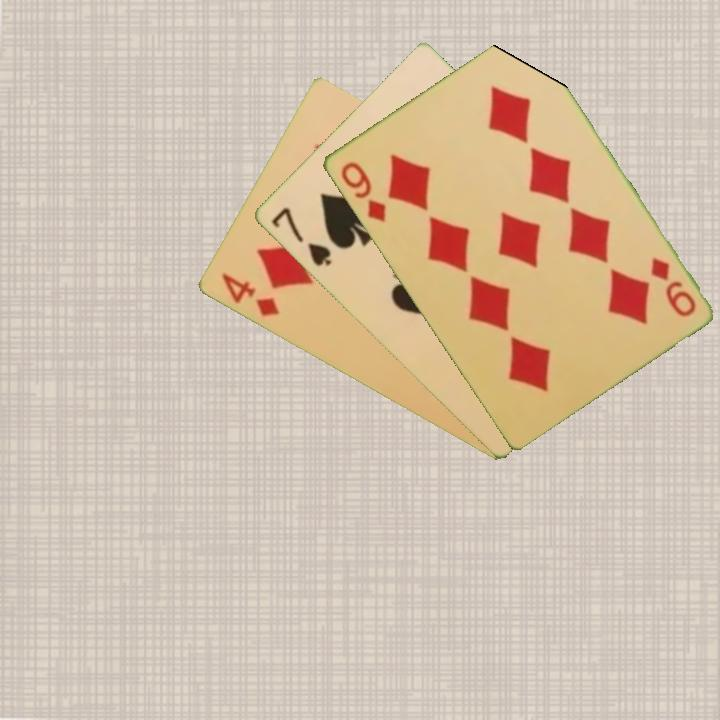4d: (217, 269, 282, 320)
7s: (267, 204, 334, 269)
9d: (336, 158, 389, 225), (646, 254, 699, 320)
